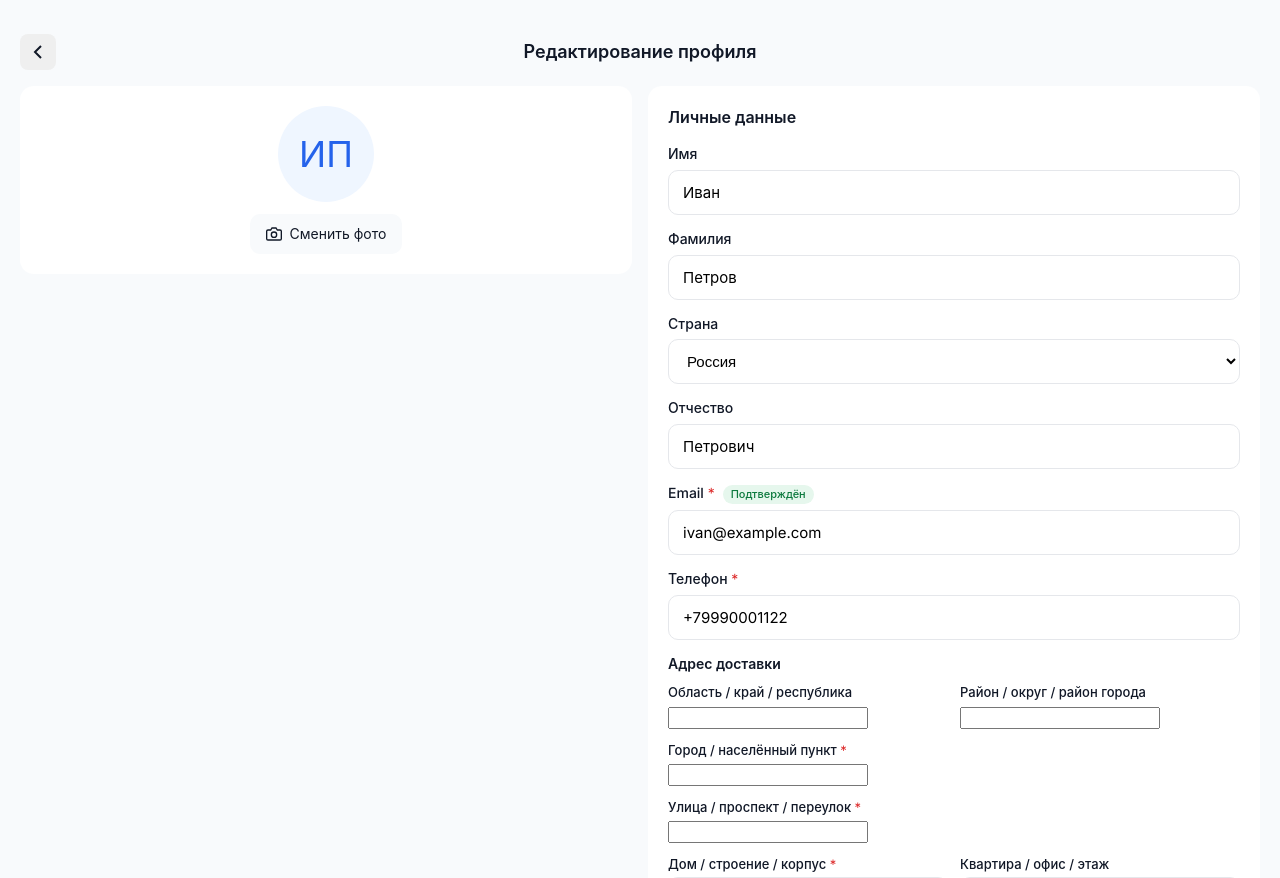
Test: ProfileEdit.vue › показывает предупреждение при смене email
Replace the text in the field with test id "edit-profile-email" with "new@example.com": (954, 533) [668,510,1240,555]
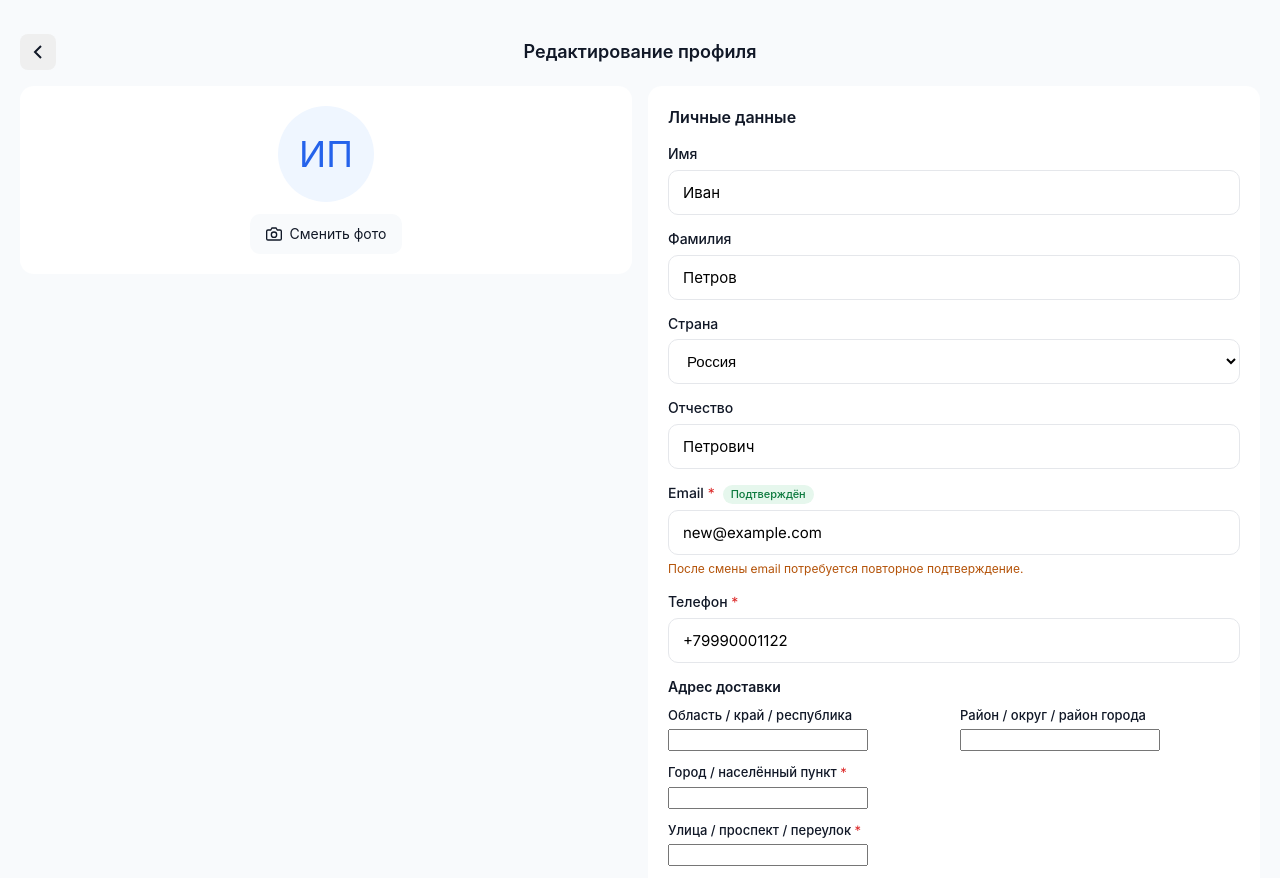
expect the text with test id "edit-profile-email-warning" shows "повторное подтверждение": met, box [668,561,1023,576]
